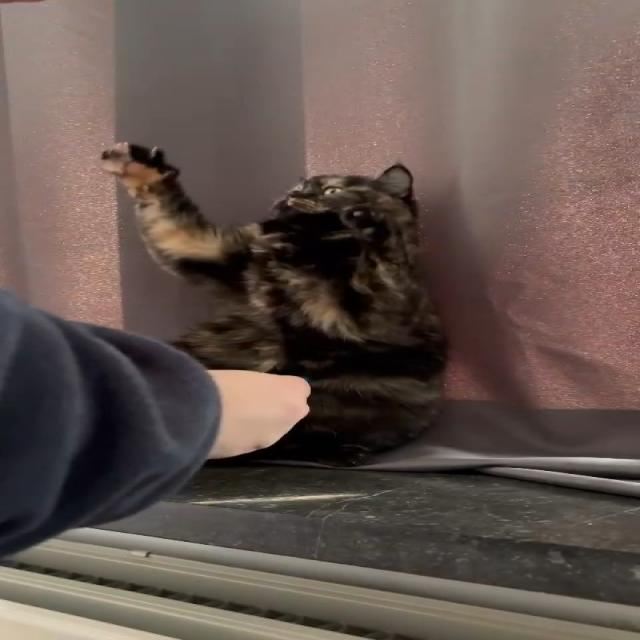authorized: (98, 140, 450, 468)
